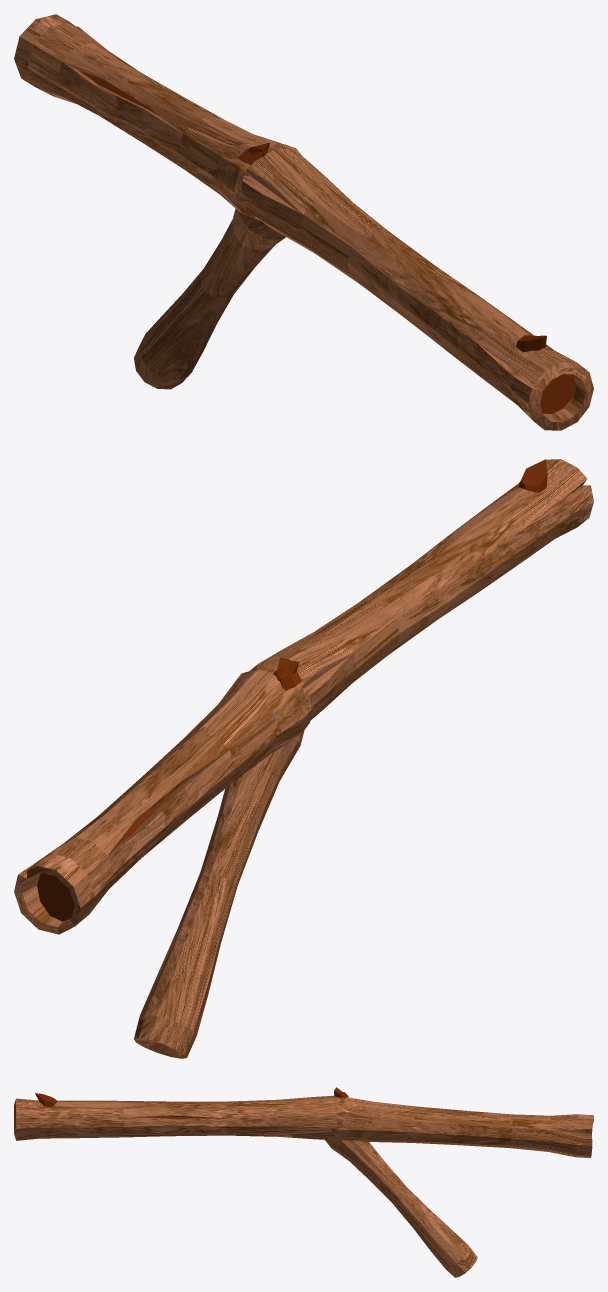
File: Пистолет_7_ФБХ.fbx
The picture shows the model from 3 angles, top to bottom: view 1: azimuth 30°, elevation 25°; view 2: azimuth 150°, elevation 25°; view 3: azimuth 270°, elevation 25°; orthographic projection. The views are drawn at different scales.
Visible parts, largest first — view 1: Тор.002, Плоскость.001; view 2: Тор.002, Плоскость; view 3: Тор.002.
Boxes of the visible parts, box(x1,y1,x2,y2) form: Тор.002: box(14, 14, 593, 430); Плоскость.001: box(531, 374, 575, 413); Тор.002: box(14, 459, 593, 1058); Плоскость: box(37, 873, 74, 921); Тор.002: box(14, 1095, 593, 1277).
Bounding box in the file's own units: 201 × 861 × 2482.
2 materials, 1 textured.
